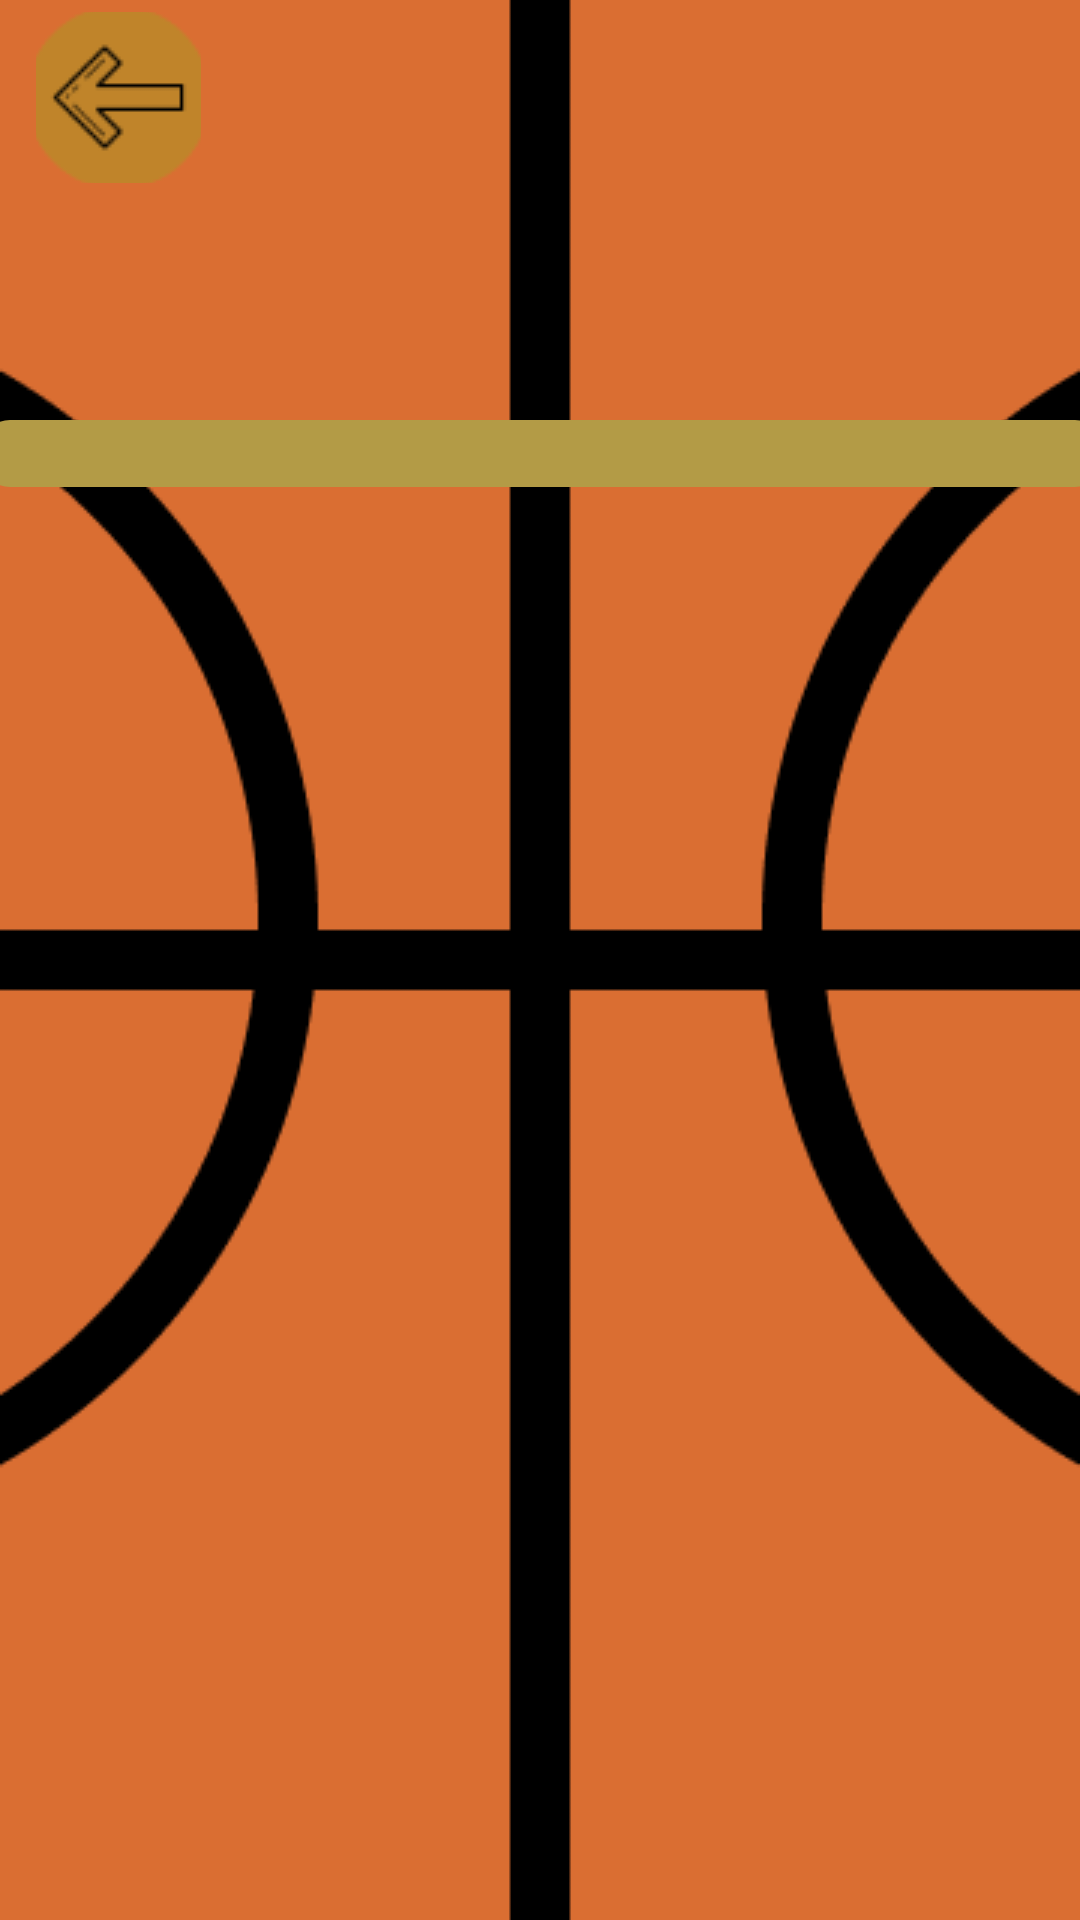

Screen size 1080px x 1920px. Icon name, then its box in pixels as (x1, y1, x2, y2):
strelka: (36, 12, 201, 183)
